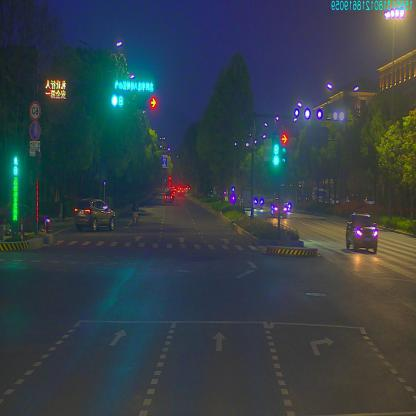traffic-light: (113, 78, 155, 89), (111, 94, 125, 109), (142, 96, 156, 110)
